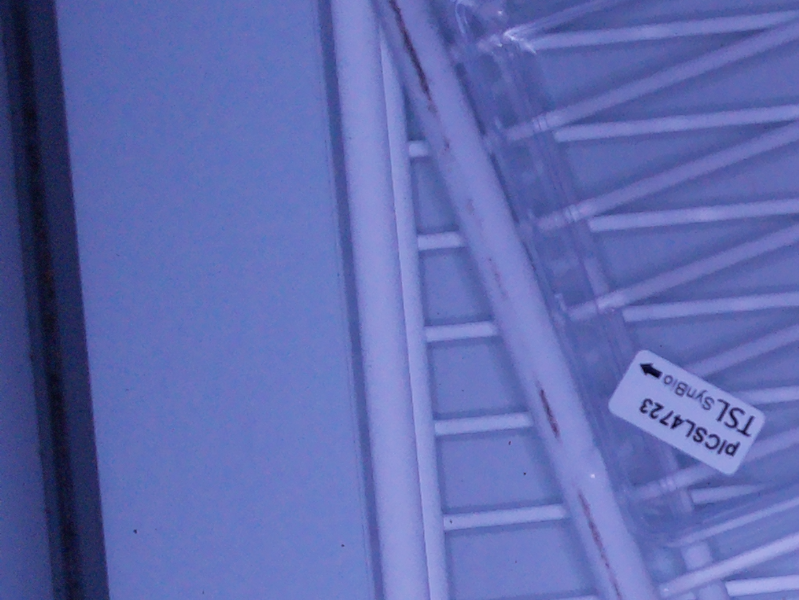plate: (443, 1, 799, 545)
